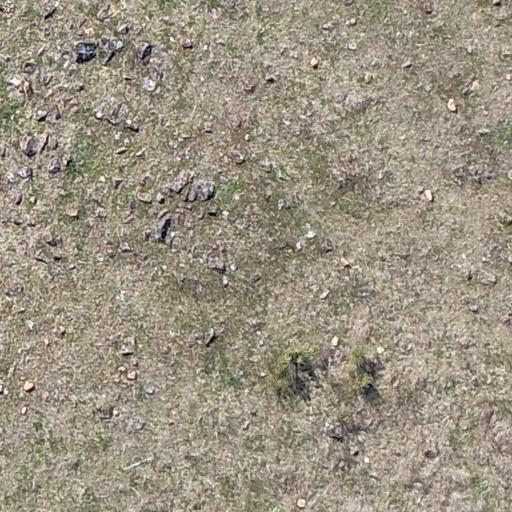stone: (188, 181, 214, 201), (36, 106, 62, 124), (19, 136, 38, 156), (94, 404, 116, 420), (96, 3, 114, 22), (156, 216, 169, 242), (201, 327, 218, 346), (109, 103, 124, 122), (206, 257, 226, 271), (452, 165, 466, 185), (43, 134, 59, 151), (92, 103, 107, 120), (137, 42, 152, 58), (141, 77, 157, 92), (43, 4, 58, 20), (47, 158, 61, 175), (320, 237, 334, 254), (495, 212, 512, 226), (228, 151, 246, 164), (22, 60, 37, 75), (260, 156, 272, 174), (320, 19, 338, 31), (136, 191, 154, 203), (43, 230, 56, 246), (33, 252, 49, 265), (109, 332, 124, 345), (242, 82, 258, 94), (124, 121, 140, 133), (61, 152, 73, 168), (422, 189, 435, 203), (446, 97, 458, 112), (339, 256, 350, 272), (66, 207, 80, 219), (139, 174, 151, 188), (18, 167, 32, 179), (118, 242, 132, 254), (250, 272, 264, 284), (209, 7, 222, 19), (234, 218, 246, 231), (112, 176, 124, 188), (123, 336, 135, 348), (476, 128, 492, 137), (180, 38, 194, 48), (119, 347, 134, 356), (134, 147, 146, 158), (423, 2, 434, 14), (349, 445, 360, 457), (204, 121, 214, 134), (14, 193, 24, 206), (35, 110, 48, 120), (5, 172, 16, 183), (127, 370, 137, 382), (266, 74, 278, 84), (363, 72, 373, 84), (155, 192, 165, 204), (144, 385, 156, 395), (240, 419, 250, 431), (345, 17, 357, 27), (304, 229, 316, 239), (115, 146, 129, 154), (277, 198, 285, 212), (403, 59, 413, 70), (464, 44, 474, 55), (332, 335, 340, 348), (319, 290, 329, 300), (25, 320, 35, 330), (310, 59, 321, 68), (123, 74, 135, 82), (221, 275, 228, 288), (469, 304, 479, 313), (297, 498, 306, 508), (207, 209, 218, 217), (118, 26, 130, 33), (26, 383, 36, 391), (58, 325, 66, 335), (52, 254, 62, 262), (20, 405, 28, 415), (347, 42, 357, 50), (76, 84, 86, 92), (114, 131, 122, 140), (221, 210, 229, 219), (376, 346, 384, 354), (296, 241, 302, 251), (44, 338, 50, 347), (364, 456, 370, 464), (244, 133, 250, 141)
